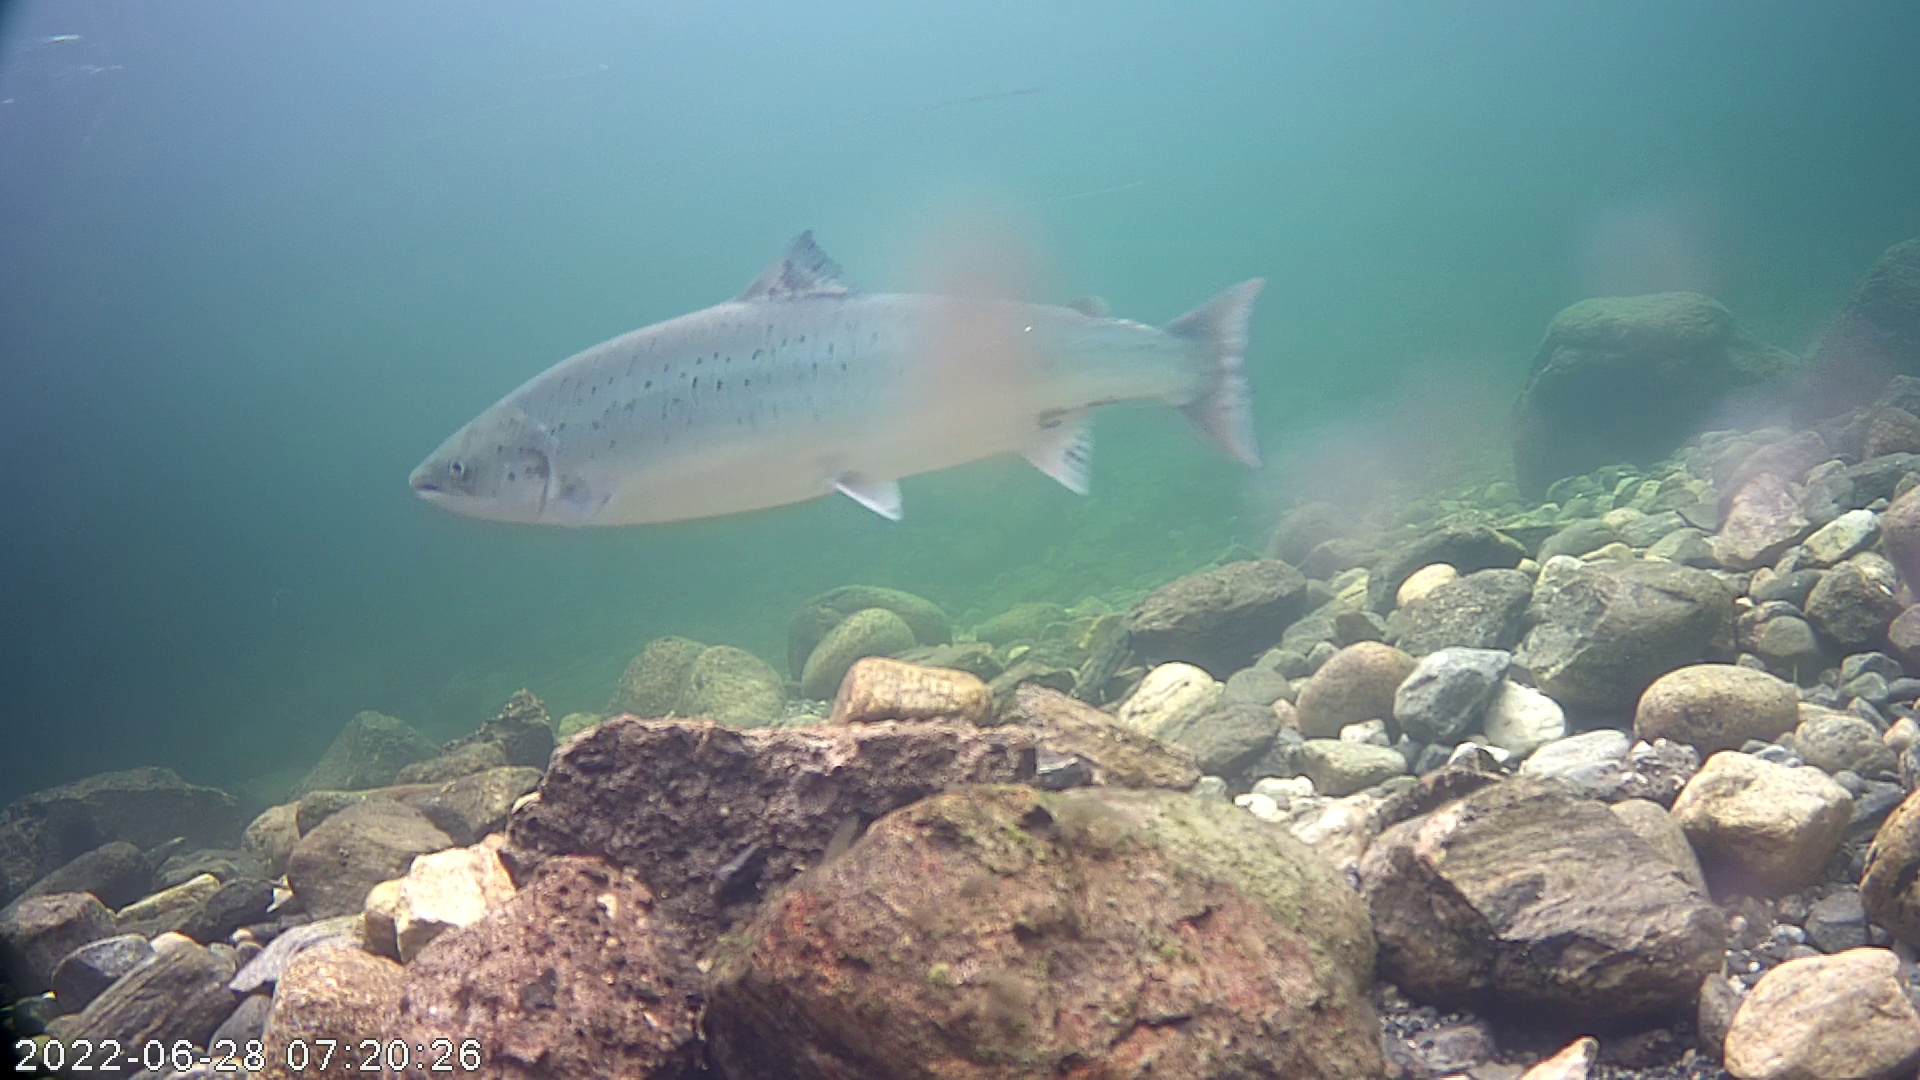salmon: (394, 164, 1284, 595)
